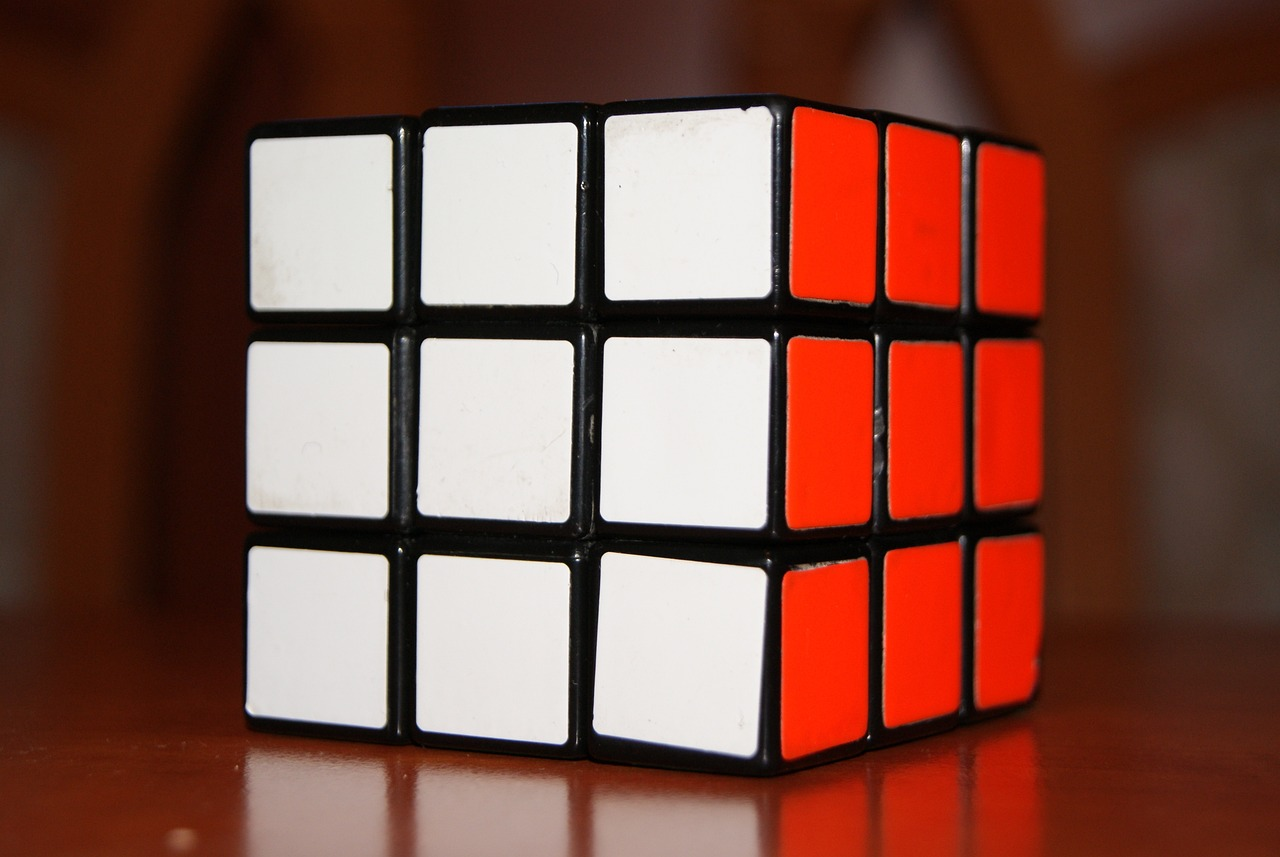cube: (239, 92, 1044, 782)
